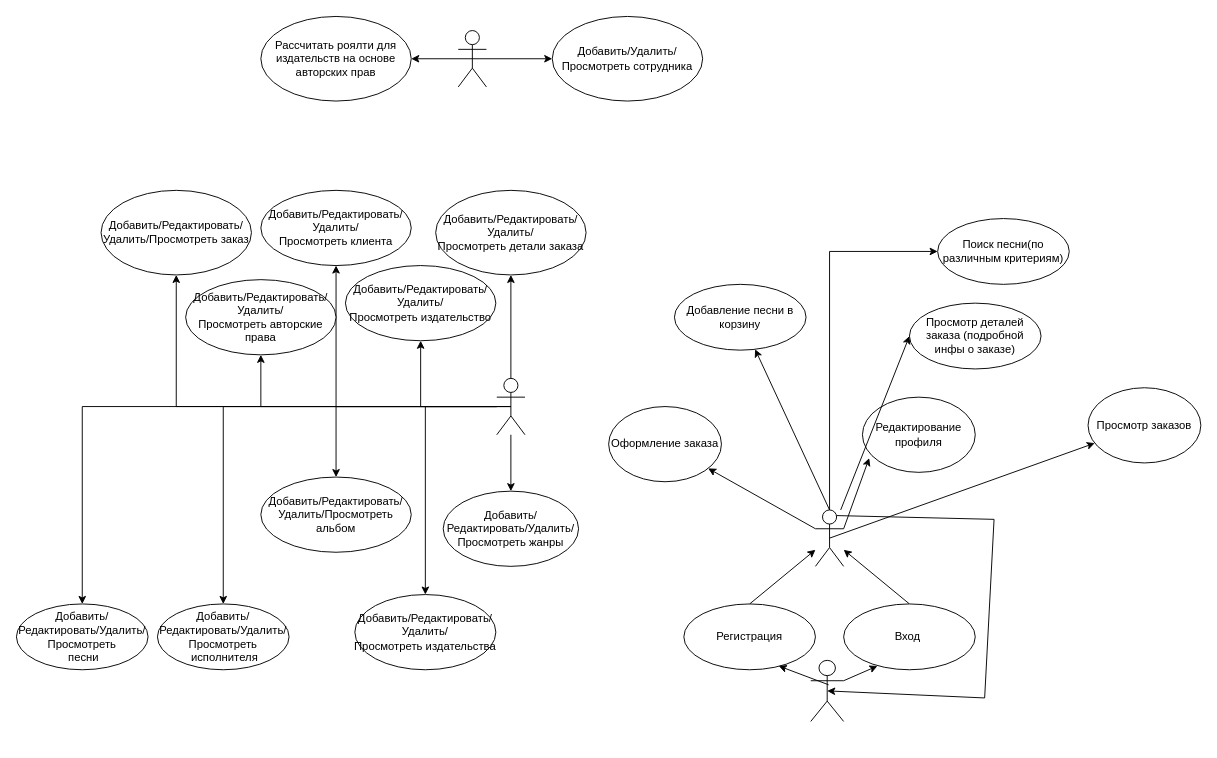
The diagram is 1217 pixels wide and 758 high, and some of its shapes have lost their labels. The shapes that lost their labels are listed below. From the top down, each one's centre as x and y in pixels, then its label:
At pixel 471 58: "Админ".
At pixel 510 406: "Сотрудник".
At pixel 829 537: "Зарегестрированный пользователь".
At pixel 827 690: "Пользователь".
